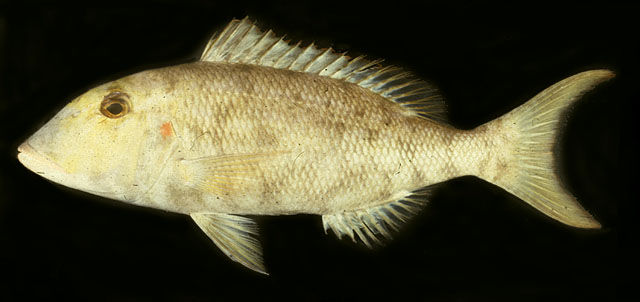fish: (15, 15, 615, 277)
